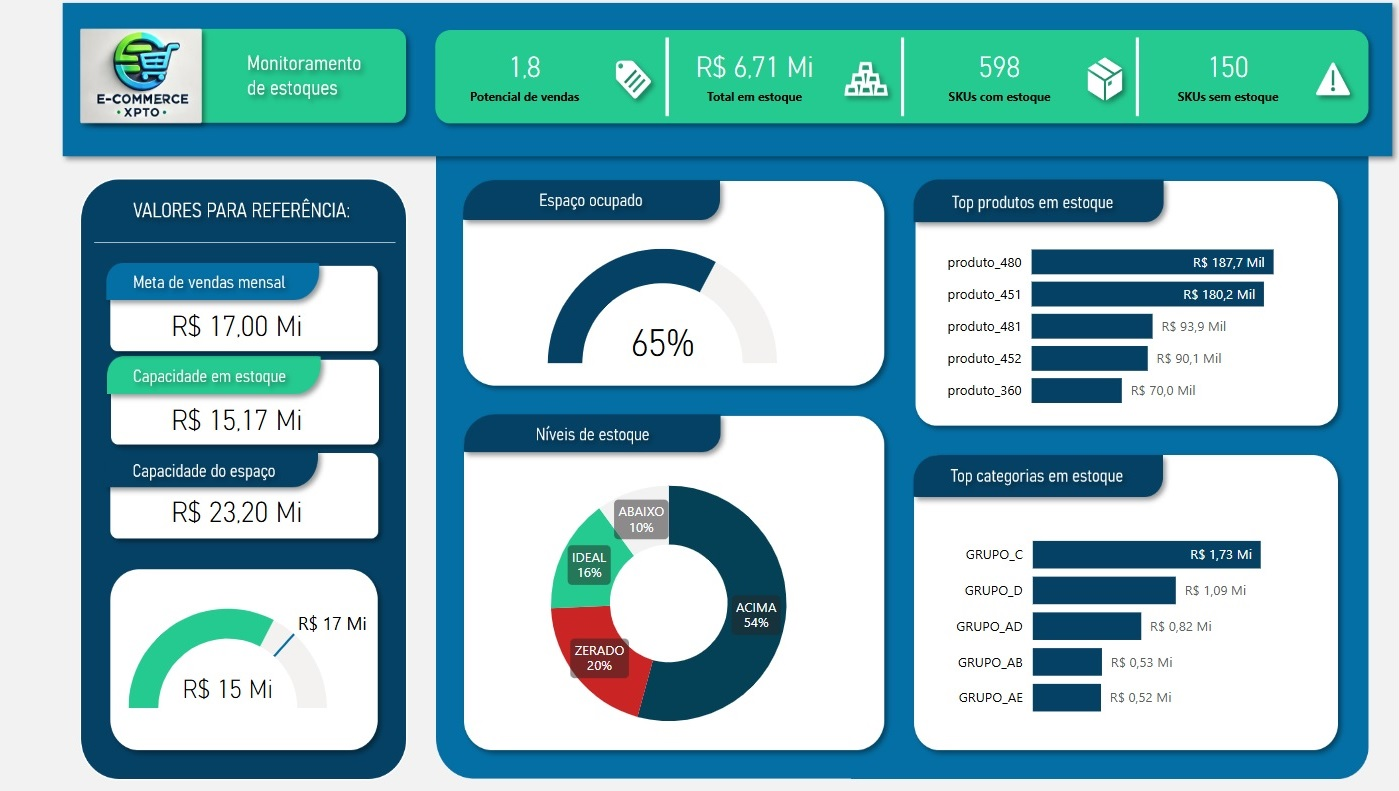

What the dashboard file says about the page in this screenshot:
{"tool":"powerbi","page":{"name":"Página 1","canvas":[1280,720],"ordinal":0},"visuals":[{"type":"donutChart","fields":{"Category":["Sheet1.nivel_estoque"],"Y":["CountNonNull(Sheet1.nivel_estoque)"]},"box":[366.8,407.9,497.5,280.8],"z":0},{"type":"barChart","fields":{"Category":["Sheet1.categoria"],"Y":["Sum(Sheet1.custo_total)"]},"box":[866.7,464.8,348.6,199.7],"z":1000},{"type":"barChart","fields":{"Category":["Sheet1.descricao"],"Y":["Sum(Sheet1.custo_total)"]},"box":[858.2,202.2,372.8,181.6],"z":2000},{"type":"gauge","fields":{"Y":["Sum(Sheet1.espaco_ocupado)"],"MaxValue":["Max(Sheet1.espaco_disponivel)"]},"box":[487.8,226.4,243.3,104.1],"z":3000},{"type":"card","fields":{"Values":["CountNonNull(Sheet1.estoque_atual)"]},"box":[1030.1,20.6,185.2,92],"z":4000},{"type":"card","fields":{"Values":["CountNonNull(Sheet1.estoque_atual)"]},"box":[828,20.6,174.3,92],"z":5000},{"type":"card","fields":{"Values":["Sum(Sheet1.custo_total)"]},"box":[606.5,20.6,174.3,92],"z":6000},{"type":"card","fields":{"Values":["Max(Sheet1.indicador_potencial)"]},"box":[397,20.6,174.3,92],"z":7000},{"type":"card","fields":{"Values":["Max(Sheet1.meta_de_vendas)"]},"box":[84.2,248.9,278.3,91.9],"z":8000},{"type":"card","fields":{"Values":["Max(Sheet1.potencial_do_espaco_disponivel)"]},"box":[84.2,417.4,278.3,91.9],"z":9000},{"type":"card","fields":{"Values":["Max(Sheet1.potencial_do_espaco_ocupado)"]},"box":[84.2,334.4,278.3,90.6],"z":10000},{"type":"gauge","fields":{"MaxValue":["Max(Sheet1.potencial_do_espaco_disponivel)"],"Y":["Max(Sheet1.potencial_do_espaco_ocupado)"],"TargetValue":["Max(Sheet1.meta_de_vendas)"]},"box":[124.7,502.4,222.7,190],"z":11000}]}

Visuals, with their boxes in screenshot pixels (x1, y1, x2, y2), scaled from the page's 1280x720 canvas onto the 1399x791 screenshot:
donutChart - Sheet1.nivel_estoque x CountNonNull(Sheet1.nivel_estoque): Rect(401, 448, 945, 757)
barChart - Sheet1.categoria x Sum(Sheet1.custo_total): Rect(947, 511, 1328, 730)
barChart - Sheet1.descricao x Sum(Sheet1.custo_total): Rect(938, 222, 1345, 422)
gauge - Sum(Sheet1.espaco_ocupado) x Max(Sheet1.espaco_disponivel): Rect(533, 249, 799, 363)
card - CountNonNull(Sheet1.estoque_atual): Rect(1126, 23, 1328, 124)
card - CountNonNull(Sheet1.estoque_atual): Rect(905, 23, 1095, 124)
card - Sum(Sheet1.custo_total): Rect(663, 23, 853, 124)
card - Max(Sheet1.indicador_potencial): Rect(434, 23, 624, 124)
card - Max(Sheet1.meta_de_vendas): Rect(92, 273, 396, 374)
card - Max(Sheet1.potencial_do_espaco_disponivel): Rect(92, 459, 396, 560)
card - Max(Sheet1.potencial_do_espaco_ocupado): Rect(92, 367, 396, 467)
gauge - Max(Sheet1.potencial_do_espaco_disponivel) x Max(Sheet1.potencial_do_espaco_ocupado): Rect(136, 552, 380, 761)
